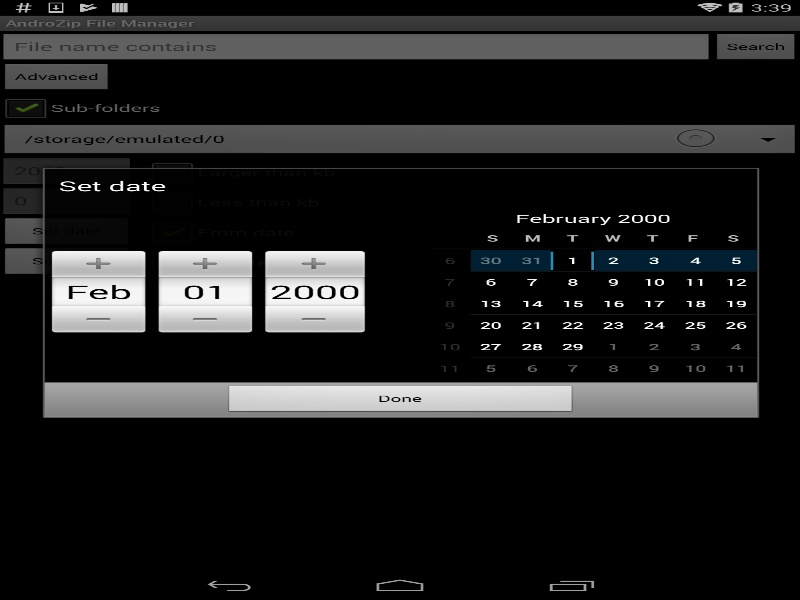Button: (224, 385, 577, 415), (260, 306, 370, 334), (260, 249, 370, 276), (46, 306, 150, 334), (153, 306, 257, 334), (46, 249, 150, 276), (153, 249, 257, 276)
Input: (260, 276, 370, 306), (46, 276, 150, 306), (153, 276, 257, 306)
